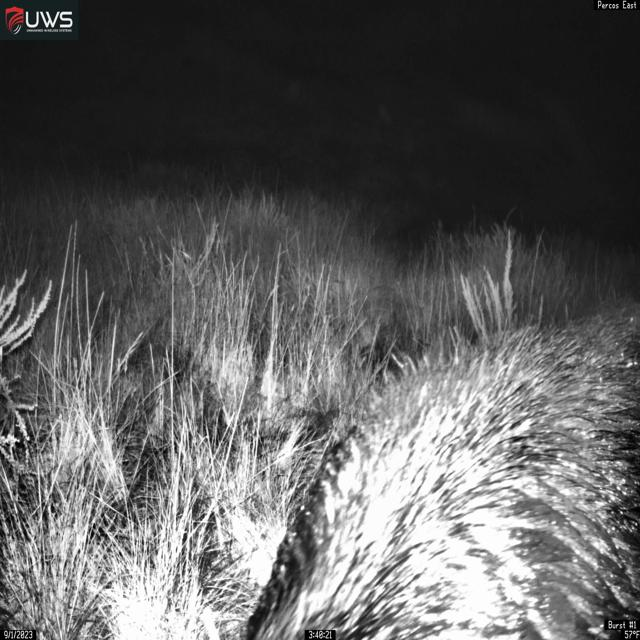pig: (223, 304, 640, 640)
